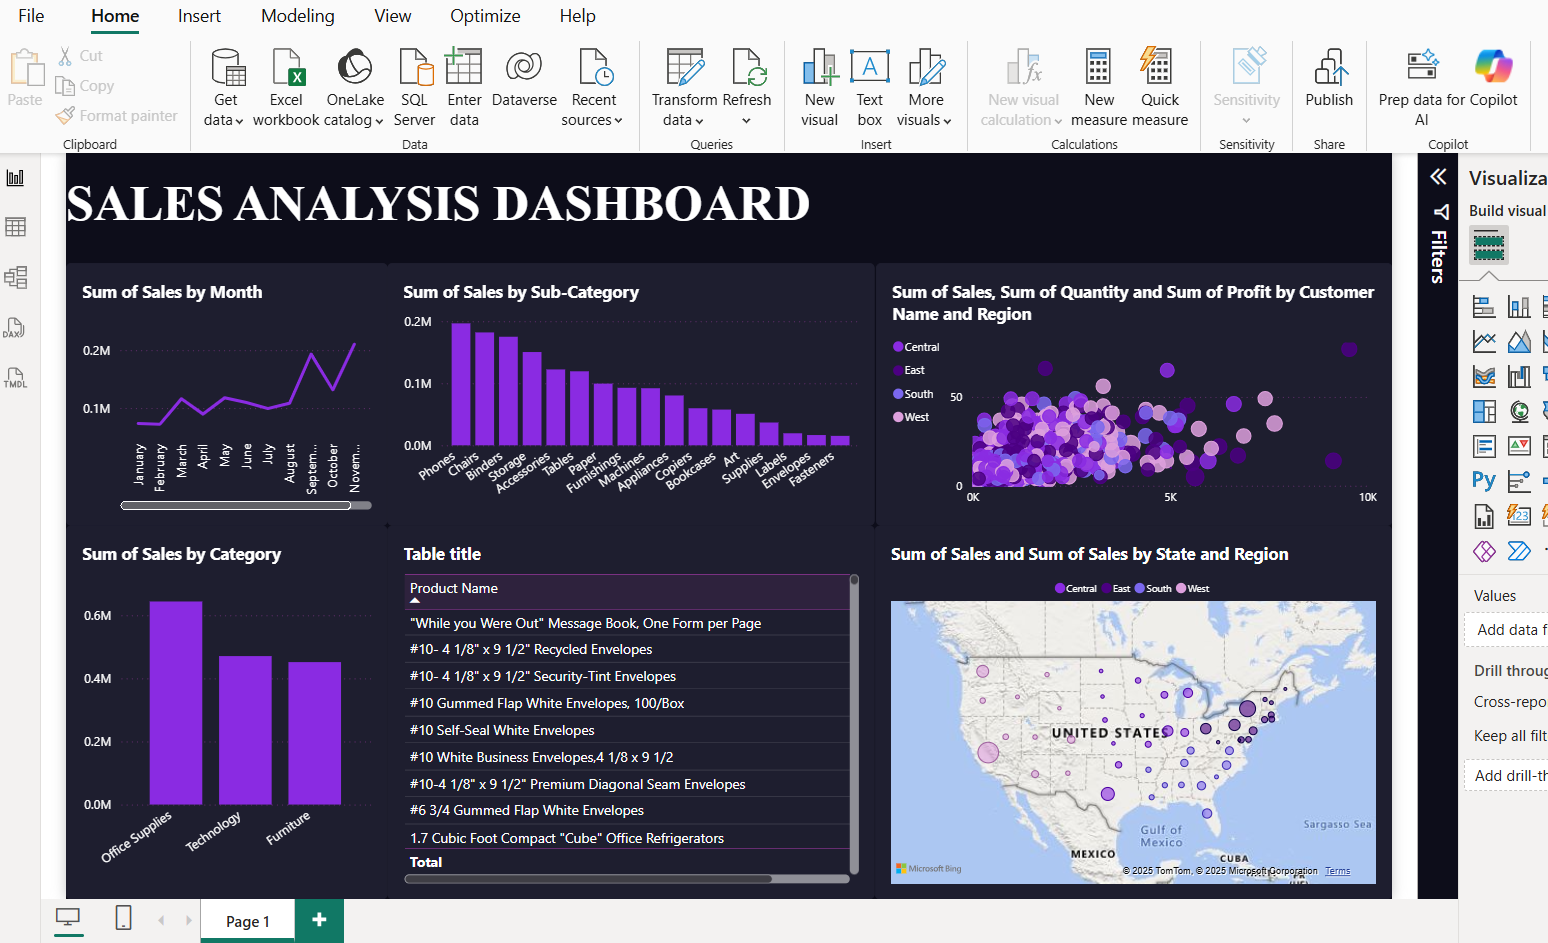

This screenshot's page, from the dashboard's own definition file:
{"tool":"powerbi","page":{"name":"Page 1","canvas":[1280,720],"ordinal":0},"visuals":[{"type":"lineChart","fields":{"Category":["SuperStore_Sales_Dataset.Order Date.Variation.Date Hierarchy.Year","SuperStore_Sales_Dataset.Order Date.Variation.Date Hierarchy.Month"],"Y":["SuperStore_Sales_Dataset.Sales"]},"box":[0,106.2,310.1,253.4],"z":0},{"type":"columnChart","fields":{"Category":["SuperStore_Sales_Dataset.Category"],"Y":["SuperStore_Sales_Dataset.Sales"]},"box":[0,359.5,310.1,360.7],"z":1},{"type":"columnChart","fields":{"Category":["SuperStore_Sales_Dataset.Sub-Category"],"Y":["SuperStore_Sales_Dataset.Sales"]},"box":[310.1,106.2,470.5,253.4],"z":2},{"type":"tableEx","fields":{"Values":["SuperStore_Sales_Dataset.Product Name","SuperStore_Sales_Dataset.Sales"]},"box":[310.1,359.5,470.5,360.7],"z":3},{"type":"scatterChart","fields":{"Category":["SuperStore_Sales_Dataset.Customer Name"],"X":["SuperStore_Sales_Dataset.Sales"],"Y":["SuperStore_Sales_Dataset.Quantity"],"Series":["SuperStore_Sales_Dataset.Region"],"Size":["SuperStore_Sales_Dataset.Profit"]},"box":[781.8,106.2,498.3,253.4],"z":4},{"type":"map","fields":{"Category":["SuperStore_Sales_Dataset.State"],"Series":["SuperStore_Sales_Dataset.Region"],"Size":["SuperStore_Sales_Dataset.Sales"]},"box":[780.6,359.5,499.5,360.7],"z":5},{"type":"textbox","box":[0,21.7,828.8,84.5],"z":7}]}

Visuals, with their boxes on the page's 1280x720 design canvas (x1, y1, x2, y2). These are canvas units, not pixel positions in the 1548x943 screenshot, which may show the page scaled, cropped or inside an application window:
lineChart - SuperStore_Sales_Dataset.Order Date.Variation.Date Hierarchy.Year x SuperStore_Sales_Dataset.Order Date.Variation.Date Hierarchy.Month: rect(0, 106, 310, 360)
columnChart - SuperStore_Sales_Dataset.Category x SuperStore_Sales_Dataset.Sales: rect(0, 360, 310, 720)
columnChart - SuperStore_Sales_Dataset.Sub-Category x SuperStore_Sales_Dataset.Sales: rect(310, 106, 781, 360)
tableEx - SuperStore_Sales_Dataset.Product Name x SuperStore_Sales_Dataset.Sales: rect(310, 360, 781, 720)
scatterChart - SuperStore_Sales_Dataset.Customer Name x SuperStore_Sales_Dataset.Sales: rect(782, 106, 1280, 360)
map - SuperStore_Sales_Dataset.State x SuperStore_Sales_Dataset.Region: rect(781, 360, 1280, 720)
textbox: rect(0, 22, 829, 106)
